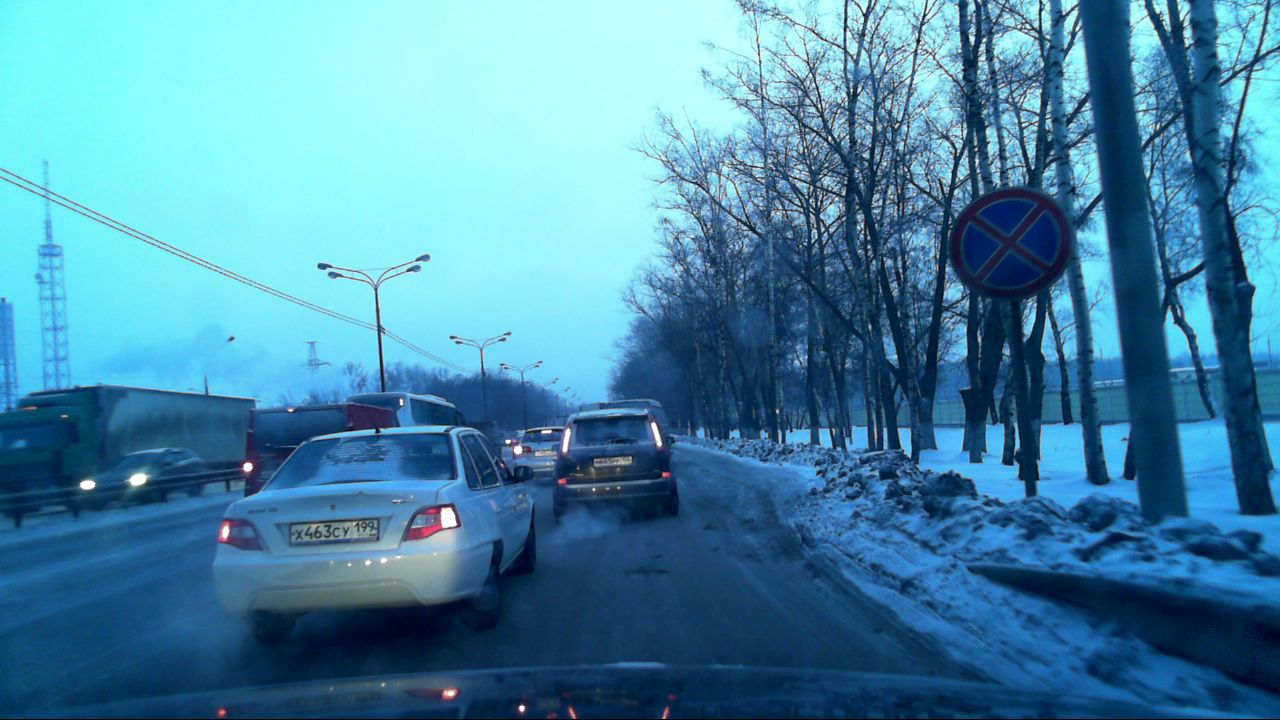No Parking: (953, 188, 1073, 300)
